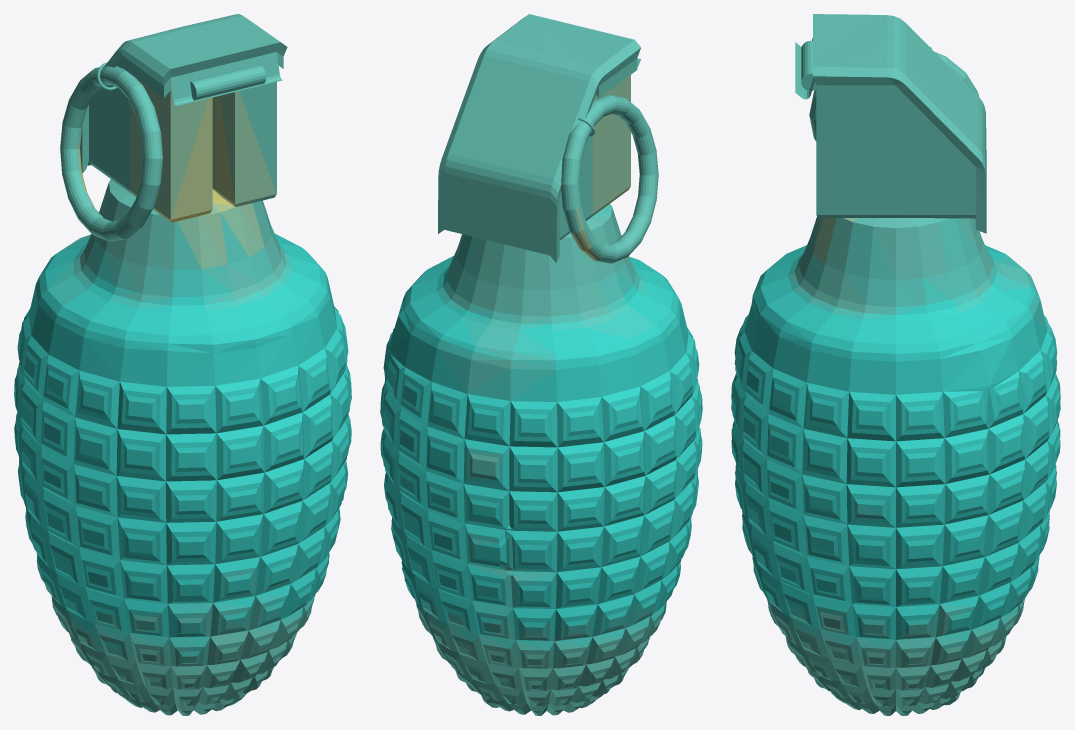
The picture shows the model from 3 angles, left to right: view 1: azimuth 30°, elevation 25°; view 2: azimuth 150°, elevation 25°; view 3: azimuth 270°, elevation 25°; orthographic projection. The views are drawn at different scales.
Parts seen in each view (by area): view 1: world; view 2: world; view 3: world.
Part boxes in pixels (bbox=[...]): world: bbox=[14, 14, 351, 715]; world: bbox=[380, 14, 702, 715]; world: bbox=[731, 14, 1060, 715].
Bounding box in the file's own units: 0.4496 × 1 × 0.4496.
